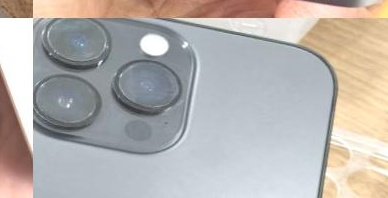scratch: (33, 63, 114, 134), (33, 18, 113, 70), (156, 67, 200, 126)
